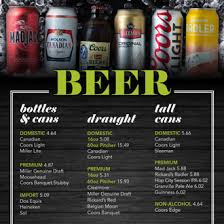coke: (150, 6, 182, 70)
